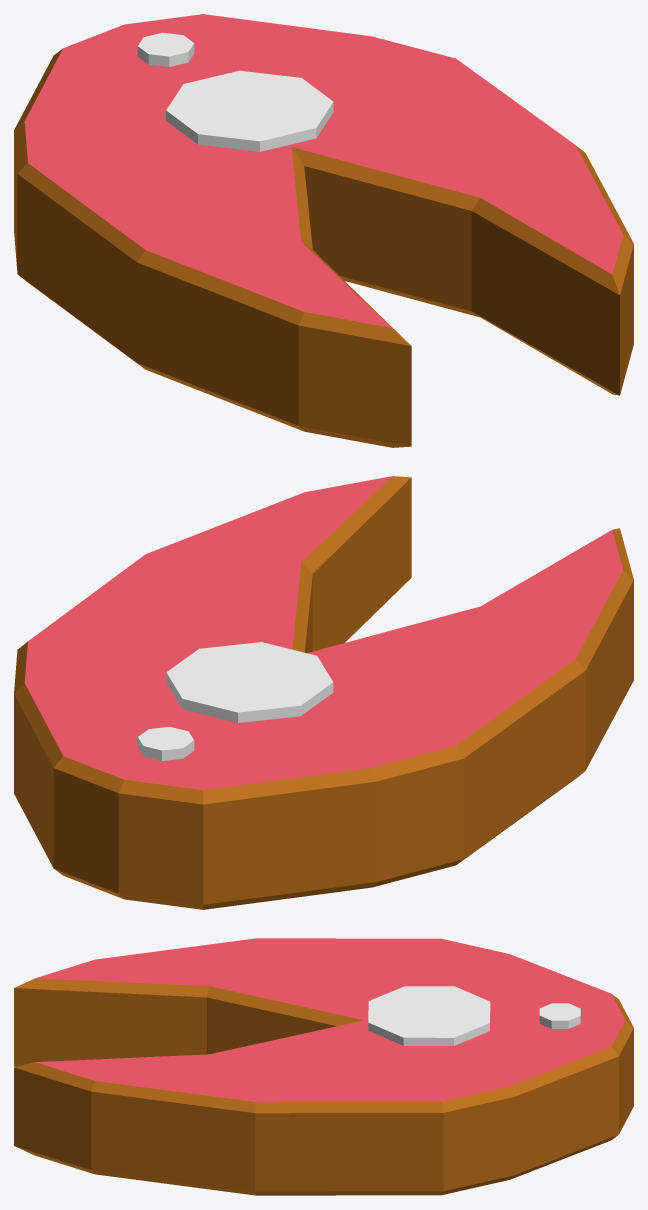
Rendered from Fish Slice 01.fbx.
3 renders of one model, top to bottom at view 1: azimuth 30°, elevation 25°; view 2: azimuth 150°, elevation 25°; view 3: azimuth 270°, elevation 25°, orthographic. The views are drawn at different scales.
Visible parts, largest first — view 1: Fish Slice 01; view 2: Fish Slice 01; view 3: Fish Slice 01.
Part boxes in pixels (bbox=[...]): Fish Slice 01: bbox=[14, 14, 633, 447]; Fish Slice 01: bbox=[14, 476, 633, 909]; Fish Slice 01: bbox=[14, 938, 633, 1195].
Size of the model in its own units: 29.69 by 8.91 by 45.52.
